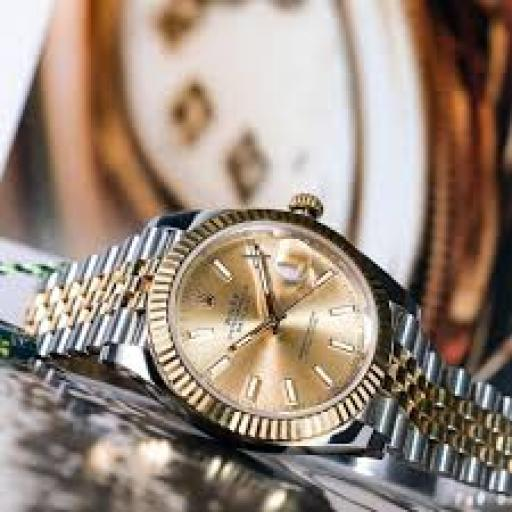KolSaati: (0, 192, 512, 509)
